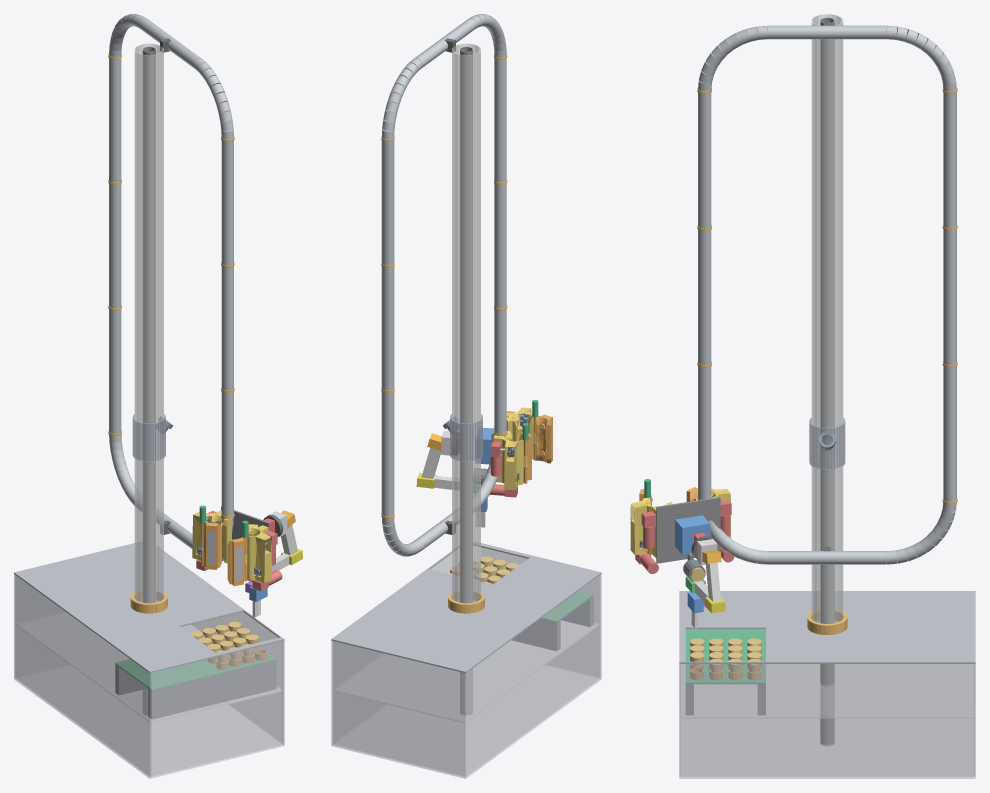
Rendered from transplant-seedling-step1-pick-v12.glb.
The picture shows the model from 3 angles, left to right: view 1: azimuth 30°, elevation 25°; view 2: azimuth 150°, elevation 25°; view 3: azimuth 270°, elevation 25°; orthographic projection. The views are drawn at different scales.
Bounding box in the file's own units: 0.4989 × 1.9 × 0.8154.
